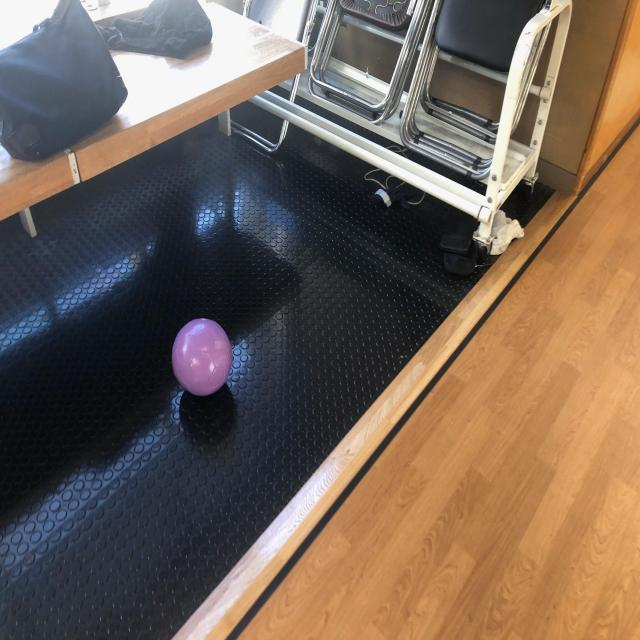purple_ball: (172, 316, 233, 396)
